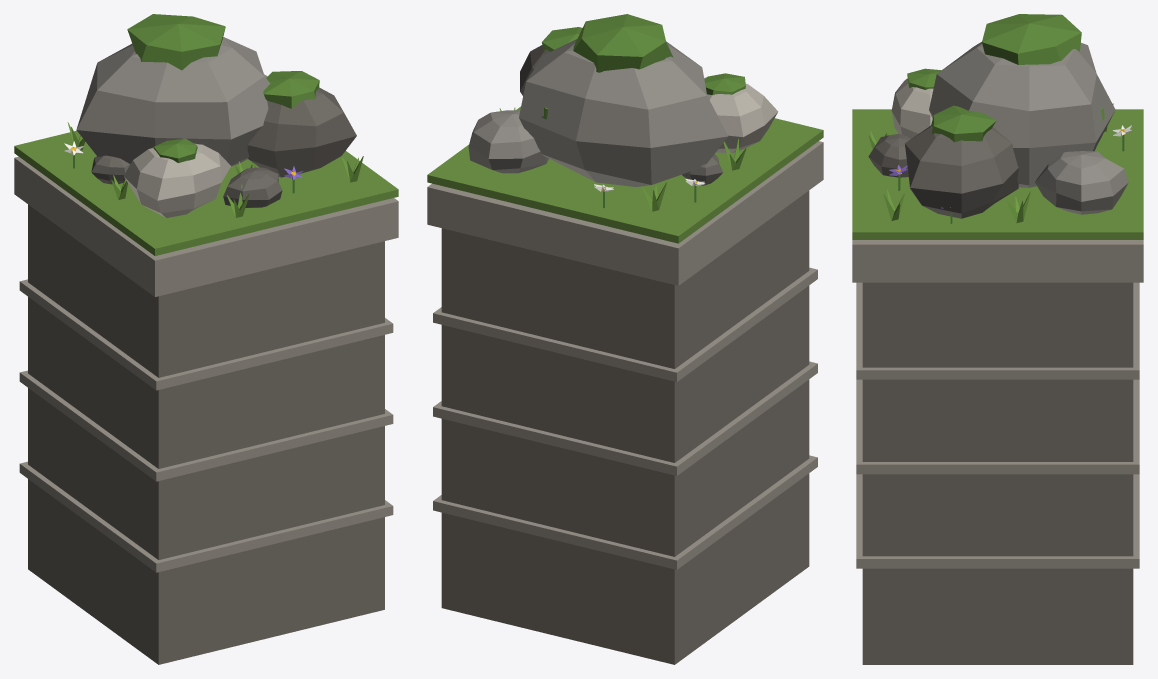
Rendered from decor_mossy_boulders.glb.
The picture shows the model from 3 angles, left to right: view 1: azimuth 30°, elevation 25°; view 2: azimuth 150°, elevation 25°; view 3: azimuth 270°, elevation 25°; orthographic projection. The views are drawn at different scales.
Parts seen in each view (by area): view 1: decor_mossy_boulders; view 2: decor_mossy_boulders; view 3: decor_mossy_boulders.
Part boxes in pixels (x1,y1,x2,y2): decor_mossy_boulders: (14,14,398,664); decor_mossy_boulders: (427,14,823,664); decor_mossy_boulders: (852,14,1143,664).
Size of the model in its own units: 2.8 by 6.12 by 2.8.
